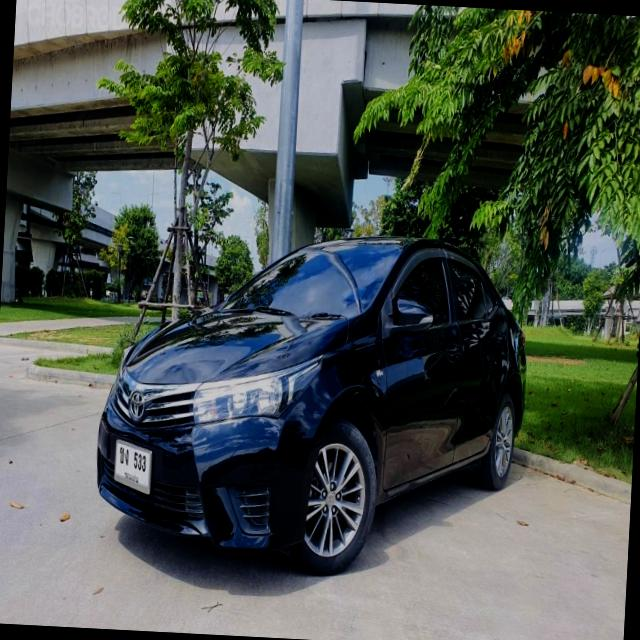license_plate: (112, 438, 155, 498)
